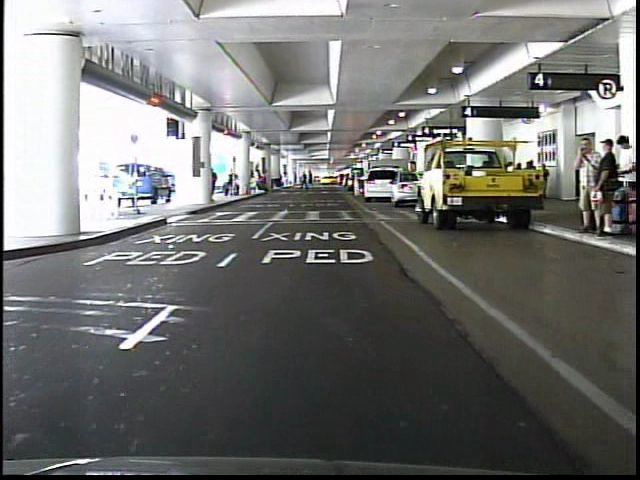person: (568, 136, 597, 234)
